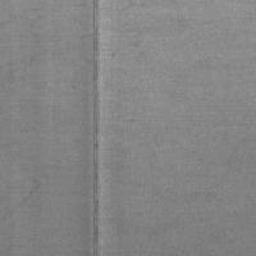Welding line: (91, 0, 100, 256)
